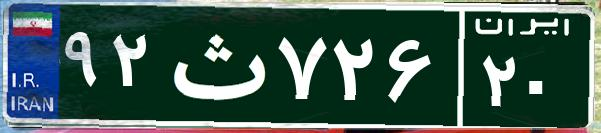0: (525, 38, 570, 115)
2: (330, 28, 385, 110), (475, 38, 525, 113), (110, 28, 158, 105)
6: (385, 28, 445, 110)
7: (273, 28, 330, 110)
9: (57, 26, 110, 107)
ث: (158, 15, 273, 115)
